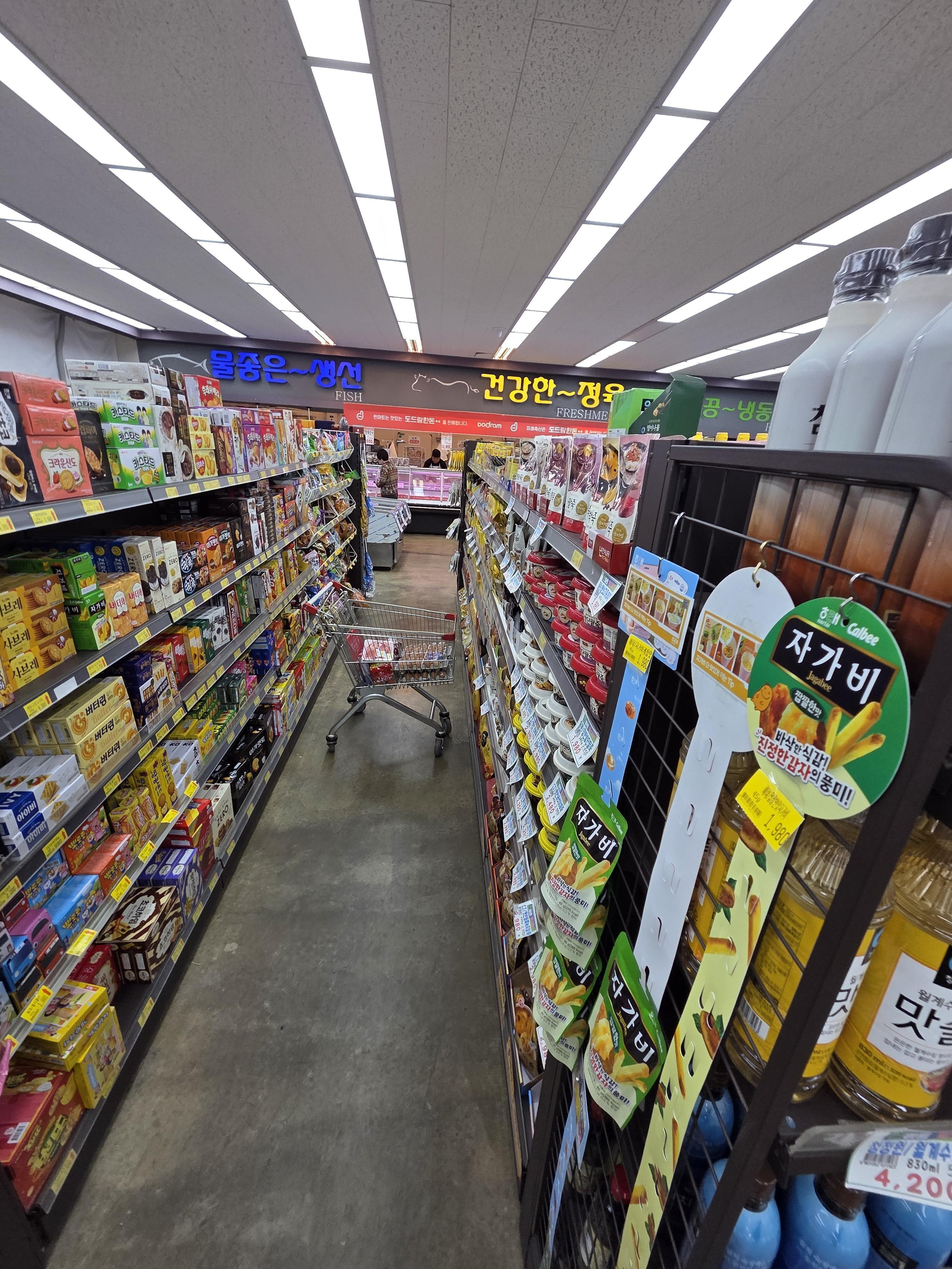fully_cart: (293, 579, 462, 753)
